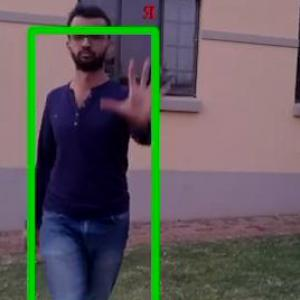follow_hand: (97, 56, 166, 124)
